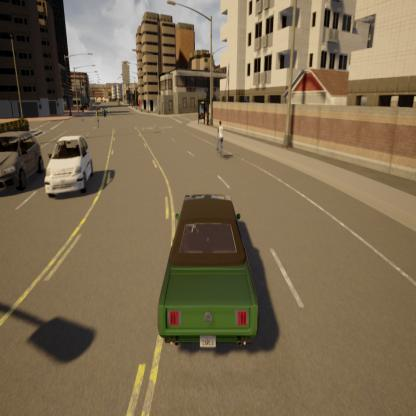Cars: (149, 181, 263, 356), (41, 130, 97, 199), (0, 119, 42, 200)
Pedestrian: (92, 104, 101, 132)
